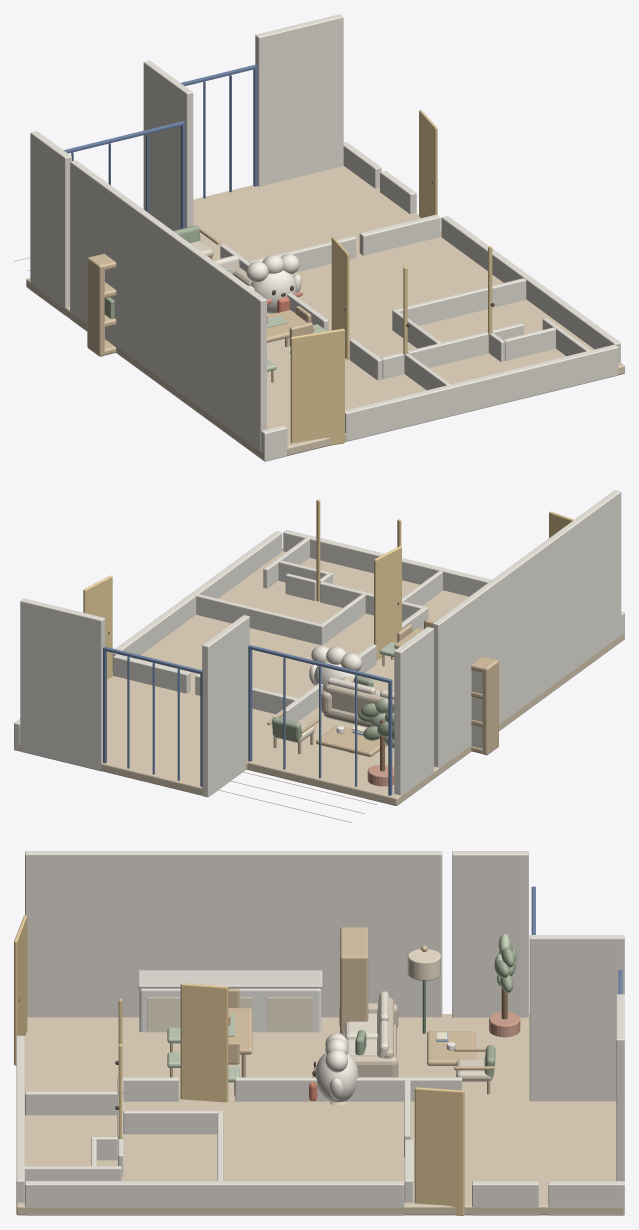
The model's file is bh7-a6-painterly-pilot.glb.
3 views of the same model, one above another, from view 1: azimuth 30°, elevation 25°; view 2: azimuth 150°, elevation 25°; view 3: azimuth 270°, elevation 25° (orthographic). The views are drawn at different scales.
Parts seen in each view (by area): view 1: HP_ARCH__A6_Floor, HP_ARCH__outer-left-lower, HP_ARCH__outer-multi-top-right, HP_ARCH__outer-bottom-main, HP_ARCH__outer-multi-left, HP_ARCH__outer-left-upper, HP_OPENING__entry-door__Door, HP_ARCH__outer-right-lower, HP_ARCH__partition-master-bath, HP_ARCH__partition-multi-master-right, HP_OPENING__multi-side-door__Door, HP_OPENING__master-entry-door__Door (+14 smaller); view 2: HP_ARCH__A6_Floor, HP_ARCH__outer-left-lower, HP_ARCH__outer-multi-top-right, HP_ARCH__outer-multi-left, HP_ARCH__outer-left-upper, HP_ARCH__outer-right-lower, HP_ARCH__outer-bottom-main, HP_ARCH__partition-master-bath, HP_OPENING__master-entry-door__Door, HP_ARCH__partition-multi-master-right, HP_SHELF__Side, HP_OPENING__multi-side-door__Door (+17 smaller); view 3: HP_ARCH__A6_Floor, HP_ARCH__outer-left-lower, HP_ARCH__outer-multi-left, HP_ARCH__outer-left-upper, HP_ARCH__outer-right-lower, HP_OPENING__multi-side-door__Door, HP_OPENING__master-entry-door__Door, HP_ARCH__partition-spine-upper, HP_KITCHEN__Counter, HP_KITCHEN__Base, HP_ARCH__partition-hall-bath, HP_ARCH__partition-bath-left (+21 smaller).
Part boxes in pixels (x1,y1,x2,y2): HP_ARCH__A6_Floor: (26, 166, 624, 460); HP_ARCH__outer-left-lower: (70, 160, 266, 458); HP_ARCH__outer-multi-top-right: (255, 14, 343, 186); HP_ARCH__outer-bottom-main: (345, 344, 618, 441); HP_ARCH__outer-multi-left: (143, 60, 193, 230); HP_ARCH__outer-left-upper: (30, 131, 71, 315); HP_OPENING__entry-door__Door: (290, 328, 344, 445); HP_ARCH__outer-right-lower: (441, 216, 620, 362); HP_ARCH__partition-master-bath: (392, 278, 526, 330); HP_ARCH__partition-multi-master-right: (359, 214, 440, 255); HP_OPENING__multi-side-door__Door: (419, 110, 437, 218); HP_OPENING__master-entry-door__Door: (331, 237, 349, 359); HP_ARCH__A6_Floor: (19, 548, 624, 805); HP_ARCH__outer-left-lower: (432, 490, 621, 774); HP_ARCH__outer-multi-top-right: (20, 598, 105, 771); HP_ARCH__outer-multi-left: (202, 615, 249, 797); HP_ARCH__outer-left-upper: (394, 627, 433, 802); HP_ARCH__outer-right-lower: (112, 531, 282, 671); HP_ARCH__outer-bottom-main: (283, 530, 491, 596); HP_ARCH__partition-master-bath: (196, 594, 324, 645); HP_OPENING__master-entry-door__Door: (374, 546, 401, 659); HP_ARCH__partition-multi-master-right: (113, 654, 190, 693); HP_SHELF__Side: (482, 659, 498, 755); HP_OPENING__multi-side-door__Door: (83, 575, 112, 679); HP_ARCH__A6_Floor: (16, 1014, 623, 1215); HP_ARCH__outer-left-lower: (25, 851, 442, 1017); HP_ARCH__outer-multi-left: (529, 935, 624, 1101); HP_ARCH__outer-left-upper: (452, 851, 528, 1017); HP_ARCH__outer-right-lower: (25, 1181, 404, 1215); HP_OPENING__multi-side-door__Door: (414, 1087, 464, 1215); HP_OPENING__master-entry-door__Door: (180, 983, 228, 1102); HP_ARCH__partition-spine-upper: (235, 1077, 462, 1101); HP_KITCHEN__Counter: (138, 970, 322, 988); HP_KITCHEN__Base: (139, 988, 321, 1032); HP_ARCH__partition-hall-bath: (123, 1110, 223, 1134); HP_ARCH__partition-bath-left: (25, 1091, 117, 1115).
Size of the model in its own units: 7.14 by 2.85 by 9.13.
